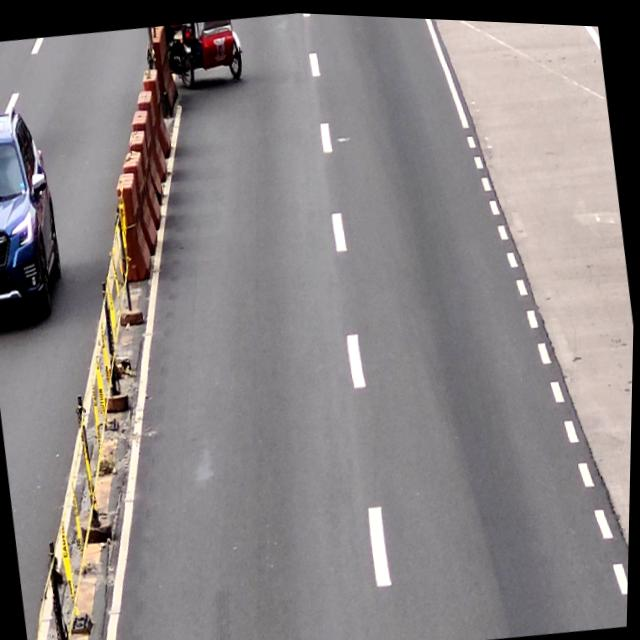Tricycle: (160, 14, 248, 91)
